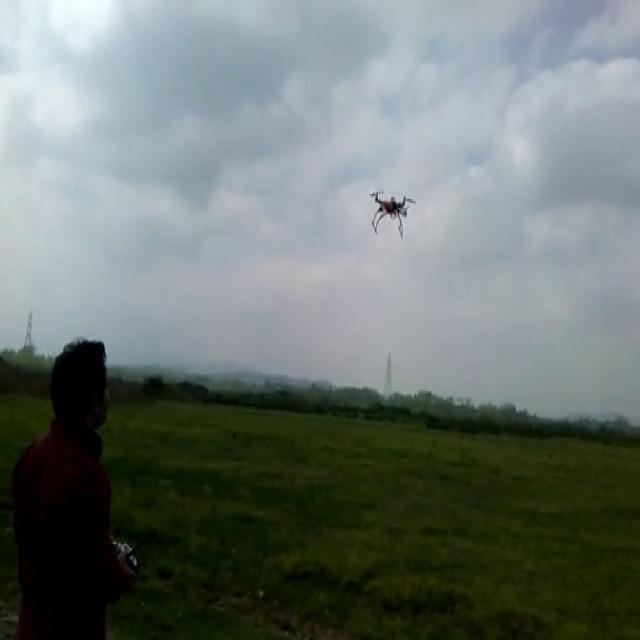drone: (366, 187, 416, 237)
